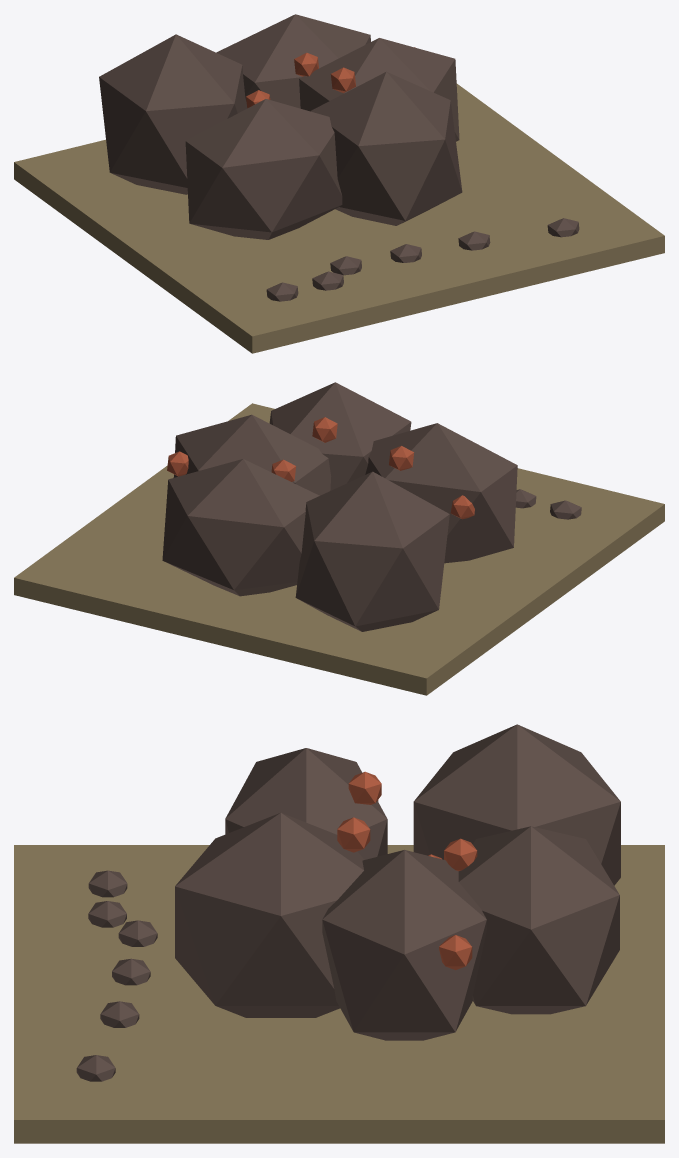
File: Deposit_Iron_Mining.fbx
3 views of the same model, one above another, from view 1: azimuth 30°, elevation 25°; view 2: azimuth 150°, elevation 25°; view 3: azimuth 270°, elevation 25° (orthographic). The views are drawn at different scales.
Visible parts, largest first — view 1: Deposit_Iron_Mining_Body; view 2: Deposit_Iron_Mining_Body; view 3: Deposit_Iron_Mining_Body.
Boxes of the visible parts, bbox=[...] form: Deposit_Iron_Mining_Body: bbox=[14, 14, 664, 353]; Deposit_Iron_Mining_Body: bbox=[14, 382, 664, 695]; Deposit_Iron_Mining_Body: bbox=[14, 724, 664, 1143].
Bounding box in the file's own units: 1 × 0.391 × 1.
